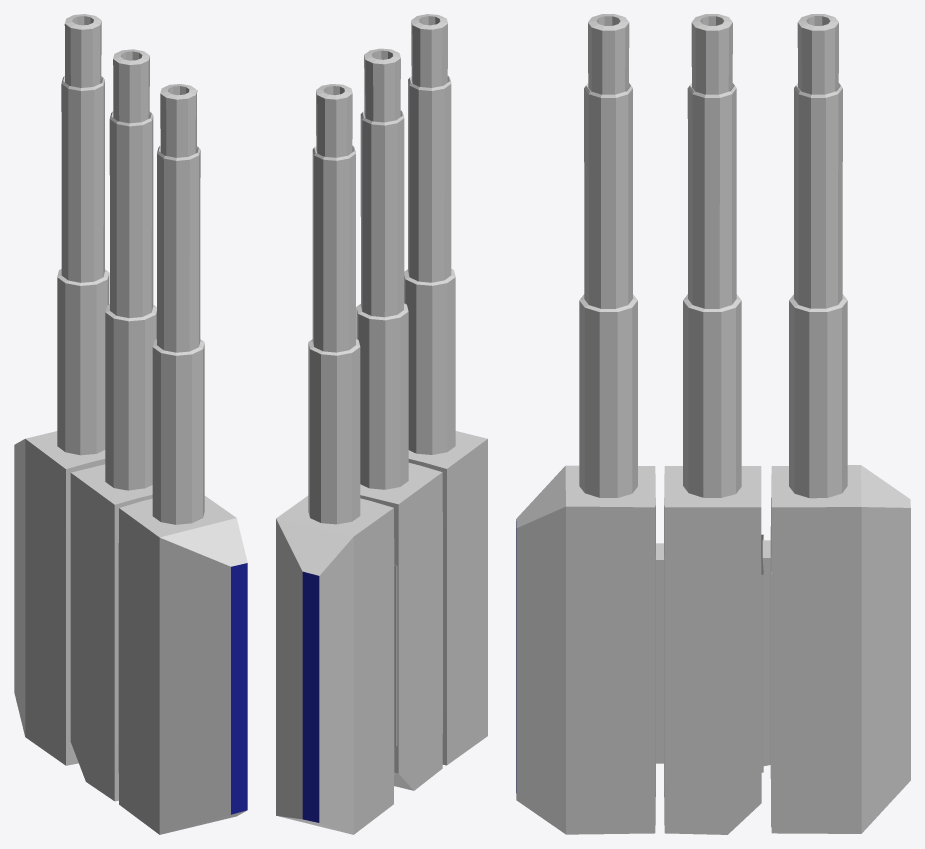
Rendered from turret_big.fbx.
3 views of the same model, side by side, from view 1: azimuth 30°, elevation 25°; view 2: azimuth 150°, elevation 25°; view 3: azimuth 270°, elevation 25° (orthographic). The views are drawn at different scales.
Parts seen in each view (by area): view 1: cannon 01; view 2: cannon 01; view 3: cannon 01.
Part boxes in pixels (<box>): cannon 01: <box>14,14,247,834</box>; cannon 01: <box>276,14,487,834</box>; cannon 01: <box>516,14,910,834</box>.
Size of the model in its own units: 43.02 by 383 by 173.
